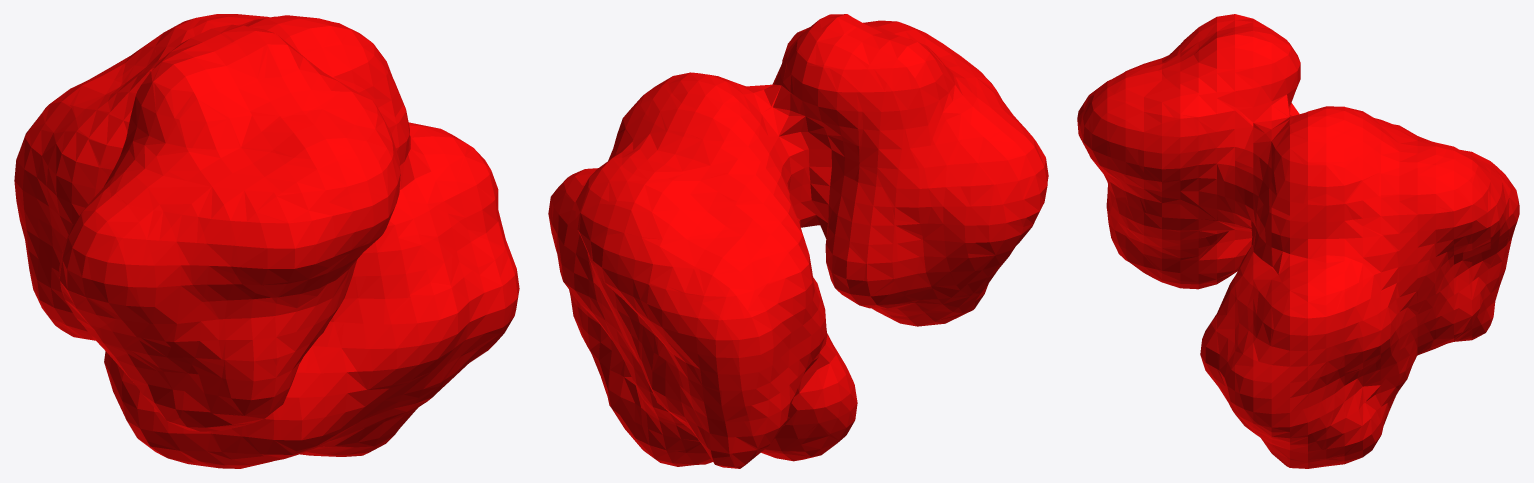
Rendered from nikR_coarse.dae.
3 views of the same model, side by side, from view 1: azimuth 30°, elevation 25°; view 2: azimuth 150°, elevation 25°; view 3: azimuth 270°, elevation 25° (orthographic). The views are drawn at different scales.
Parts seen in each view (by area): view 1: nikR; view 2: nikR; view 3: nikR.
Boxes of the visible parts, x1,y1,x2,y2 form: nikR: (14, 14, 519, 468); nikR: (548, 14, 1048, 468); nikR: (1077, 14, 1519, 468).
Bounding box in the file's own units: 57.7 × 54.92 × 57.88.
